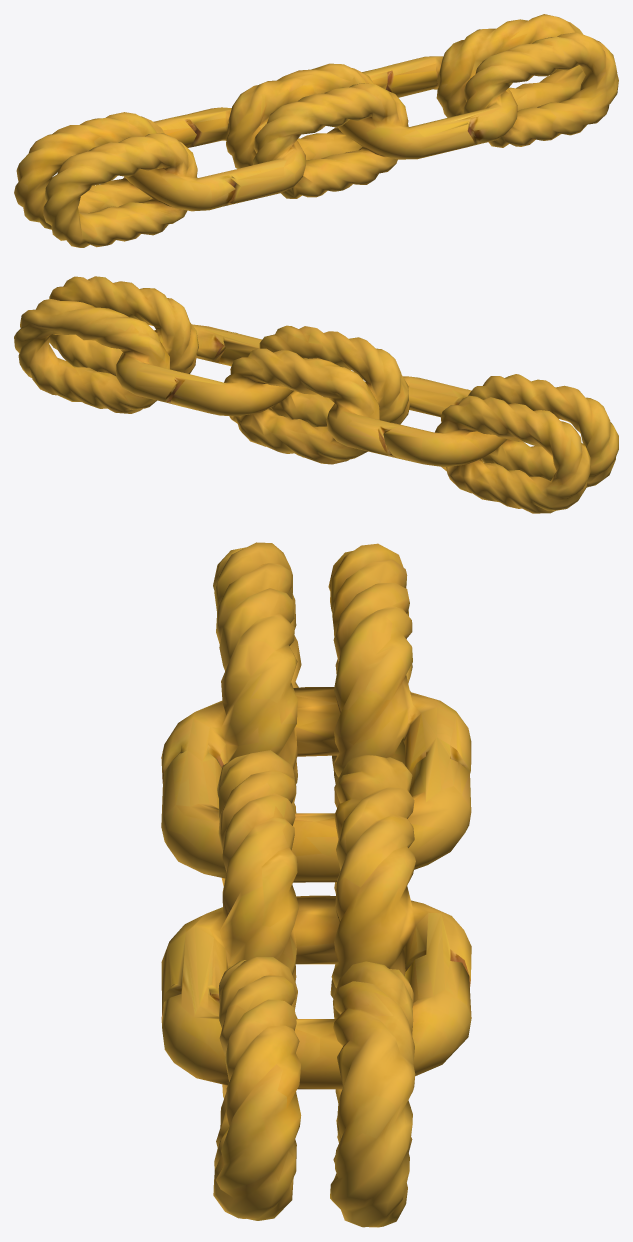
The model's file is prop_chain_link.fbx.
3 views of the same model, one above another, from view 1: azimuth 30°, elevation 25°; view 2: azimuth 150°, elevation 25°; view 3: azimuth 270°, elevation 25° (orthographic). The views are drawn at different scales.
Parts seen in each view (by area): view 1: tripo_node_aaf5440b-e9b3-43b6-a96d-2130ffb78807; view 2: tripo_node_aaf5440b-e9b3-43b6-a96d-2130ffb78807; view 3: tripo_node_aaf5440b-e9b3-43b6-a96d-2130ffb78807.
Boxes of the visible parts, x1,y1,x2,y2 form: tripo_node_aaf5440b-e9b3-43b6-a96d-2130ffb78807: (14, 14, 618, 247); tripo_node_aaf5440b-e9b3-43b6-a96d-2130ffb78807: (14, 276, 618, 513); tripo_node_aaf5440b-e9b3-43b6-a96d-2130ffb78807: (161, 542, 471, 1227).
Size of the model in its own units: 0.9807 by 0.1683 by 0.2305.
